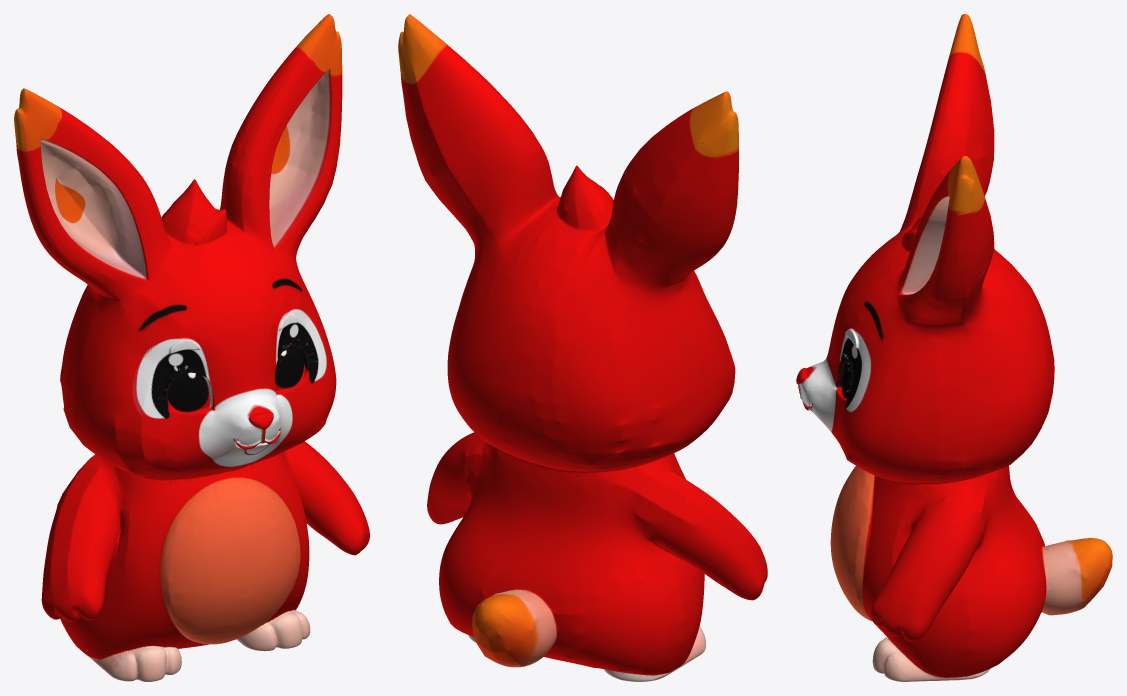
File: flame_bunny.glb
The picture shows the model from 3 angles, left to right: view 1: azimuth 30°, elevation 25°; view 2: azimuth 150°, elevation 25°; view 3: azimuth 270°, elevation 25°; orthographic projection. The views are drawn at different scales.
Bounding box in the file's own units: 1.11 × 1.9 × 0.9845.
Materials: 1 (1 with a texture image).
